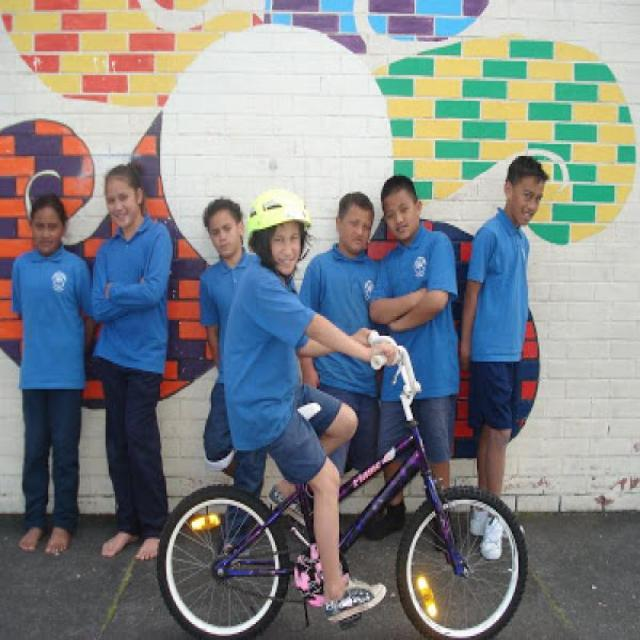Helmet: (238, 185, 329, 298)
